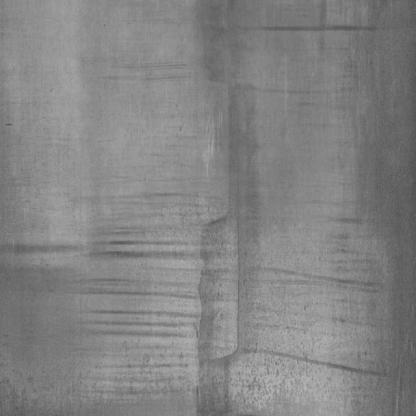waist_folding: (5, 169, 365, 392)
